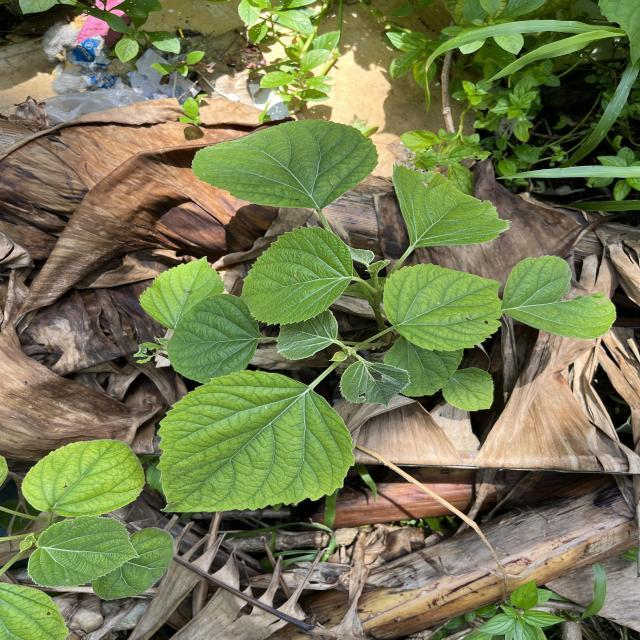Clerodendrum infortunatum: (155, 367, 359, 515), (190, 118, 380, 210), (240, 224, 353, 326), (382, 261, 504, 353), (20, 438, 146, 518), (165, 292, 264, 385), (27, 514, 142, 590), (138, 256, 225, 330), (440, 366, 496, 412)
